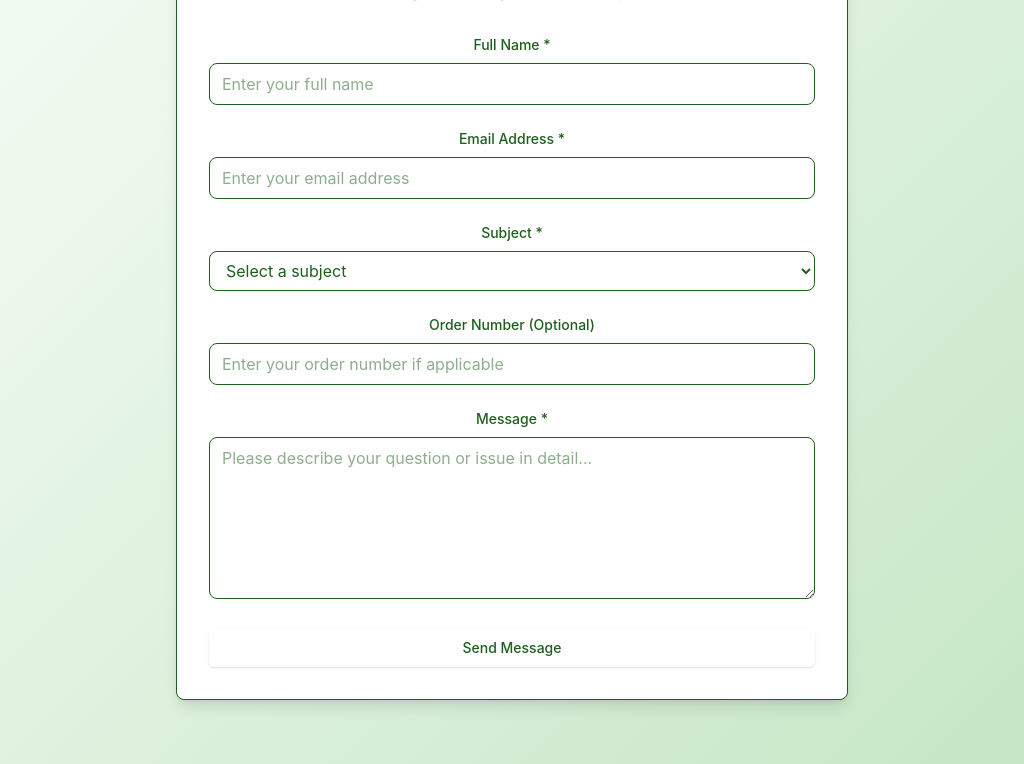
ContactUsPage › Form submission › prevents submission with validation errors
(page scrolled)
Click the button "Send Message": (512,648) x1=209 y1=629 x2=815 y2=667
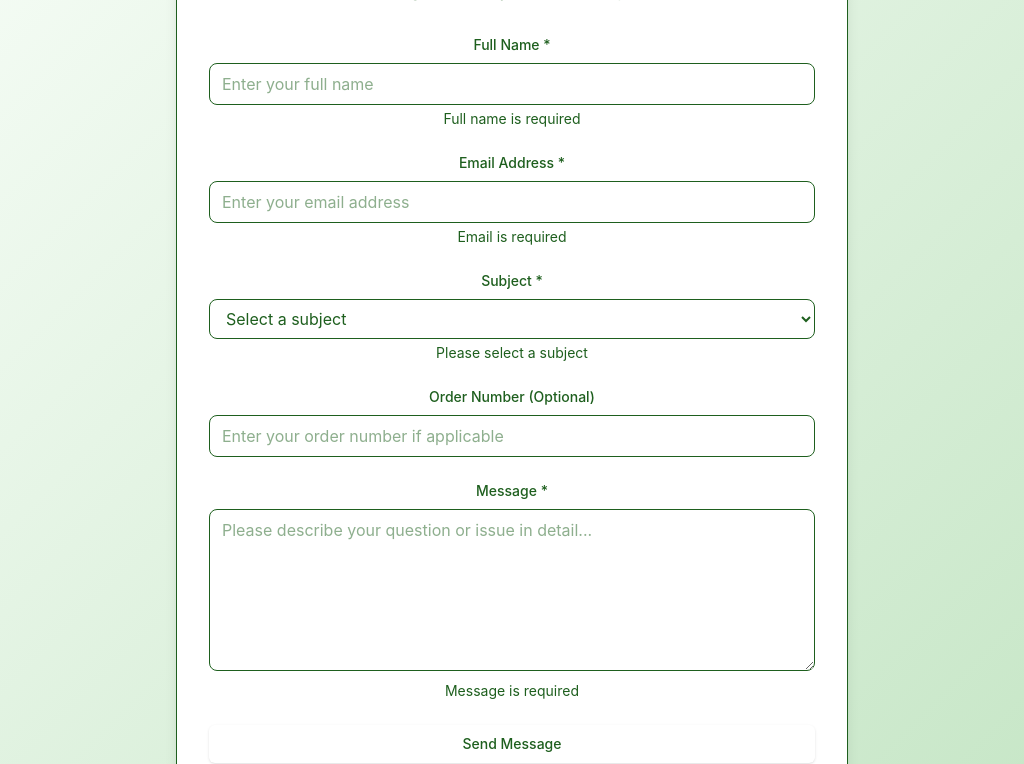
expect the text "Full name is required" is shown: met, box x1=443 y1=110 x2=581 y2=127
expect the text "Email is required" is shown: met, box x1=457 y1=228 x2=567 y2=245
expect the text "Please select a subject" is shown: met, box x1=436 y1=344 x2=588 y2=361
